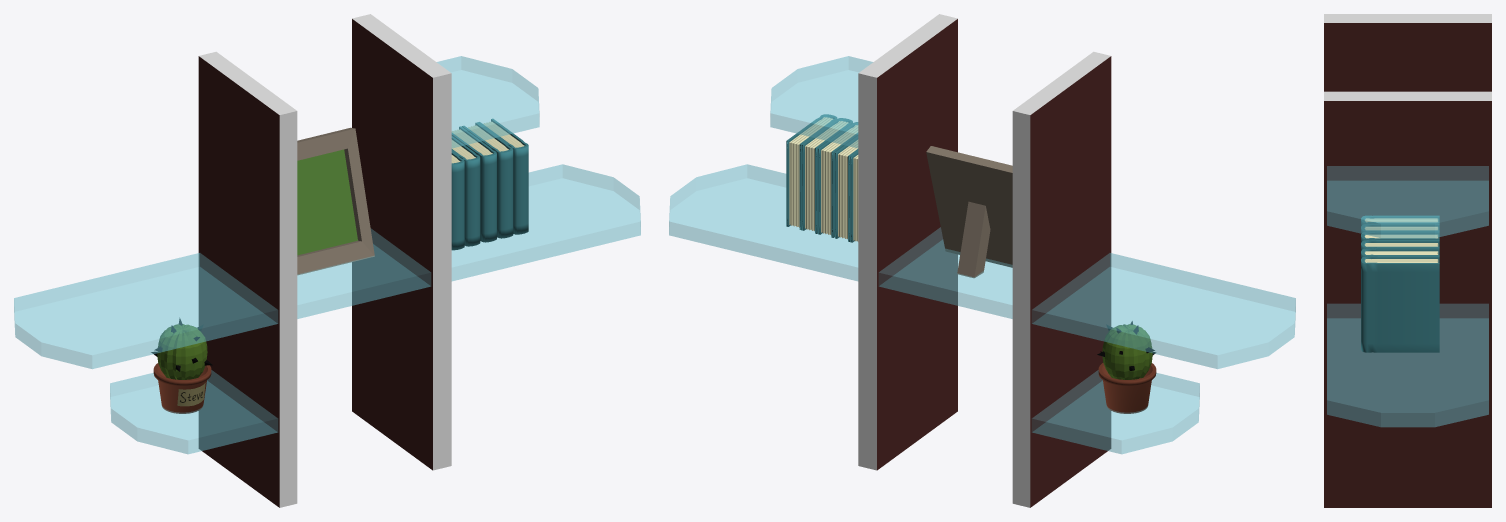
File: shelves_tier15.fbx
3 views of the same model, side by side, from view 1: azimuth 30°, elevation 25°; view 2: azimuth 150°, elevation 25°; view 3: azimuth 270°, elevation 25° (orthographic). The views are drawn at different scales.
Visible parts, largest first — view 1: Cube.008, Cube.009, Cube.014, Cube.002, Cube.001, Cylinder.001, Cube.007, Cube.006, Cube.010, Cube.005, Cylinder, Cube.004; view 2: Cube.008, Cube.009, Cube.014, Cube.002, Cube.001, Cylinder.001, Cube.007, Cube.006, Cube.010, Cylinder, Cube.005, Cube.004; view 3: Cube.008, Cube.009, Cube.001, Cube.010, Cube.005, Cube.006, Cube.003, Cube.004, Cube.007.
Boxes of the visible parts, box(x1,y1,x2,y2) form: Cube.008: box(198, 14, 451, 507); Cube.009: box(14, 164, 640, 368); Cube.014: box(297, 127, 374, 275); Cube.002: box(110, 370, 277, 454); Cube.001: box(437, 56, 539, 148); Cylinder.001: box(151, 318, 212, 379); Cube.007: box(462, 122, 513, 238); Cube.006: box(451, 126, 496, 242); Cube.010: box(478, 118, 528, 234); Cube.005: box(451, 136, 480, 246); Cylinder: box(153, 363, 211, 413); Cube.004: box(451, 151, 464, 250); Cube.008: box(858, 14, 1111, 507); Cube.009: box(669, 164, 1295, 368); Cube.014: box(926, 146, 1012, 278); Cube.002: box(1032, 370, 1199, 454); Cube.001: box(770, 56, 872, 148); Cylinder.001: box(1097, 321, 1155, 379); Cube.007: box(801, 118, 852, 233); Cube.006: box(818, 122, 858, 237); Cube.010: box(786, 114, 837, 230); Cylinder: box(1098, 363, 1156, 413); Cube.005: box(835, 136, 858, 241); Cube.004: box(850, 151, 858, 242); Cube.008: box(1324, 14, 1491, 507); Cube.009: box(1327, 304, 1488, 427); Cube.001: box(1327, 166, 1488, 238); Cube.010: box(1361, 256, 1439, 352); Cube.005: box(1361, 231, 1439, 242); Cube.006: box(1361, 240, 1439, 250); Cube.003: box(1361, 215, 1439, 225); Cube.004: box(1361, 223, 1439, 233); Cube.007: box(1361, 248, 1439, 258).
Size of the model in its own units: 212 by 133 by 49.72.
